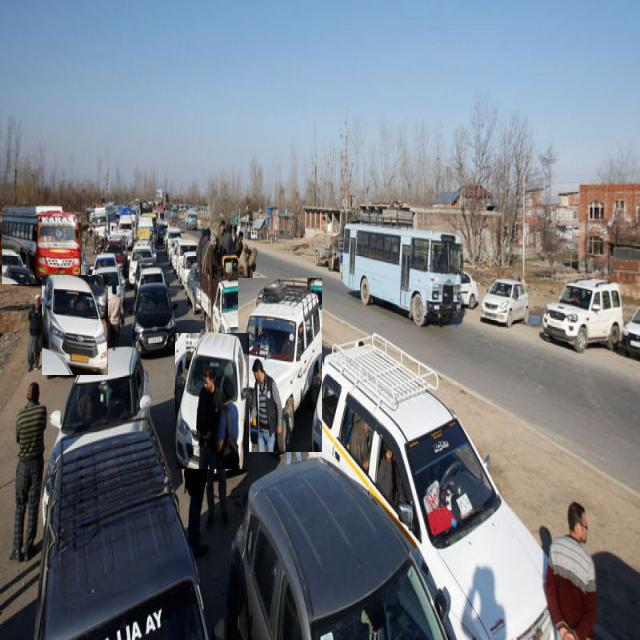bus: (341, 222, 462, 324), (2, 205, 80, 284)
car: (309, 333, 551, 639), (238, 278, 322, 452), (50, 347, 151, 449), (175, 333, 249, 469), (42, 275, 108, 375), (542, 280, 622, 351), (132, 284, 176, 353), (480, 278, 529, 327)
